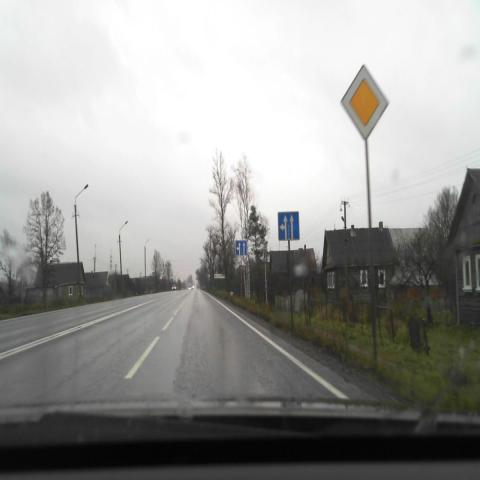2_1: (340, 64, 389, 141)
5_15_2_2: (278, 211, 300, 240), (236, 240, 246, 255)
